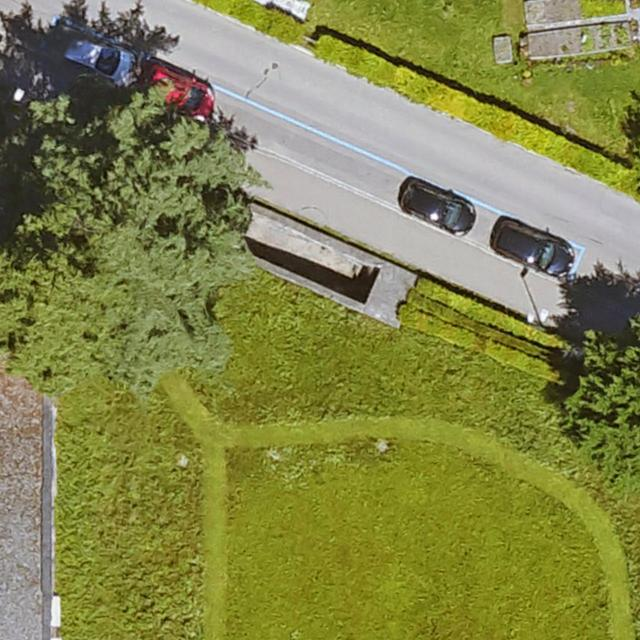tree: (0, 100, 230, 375), (569, 304, 640, 499)
